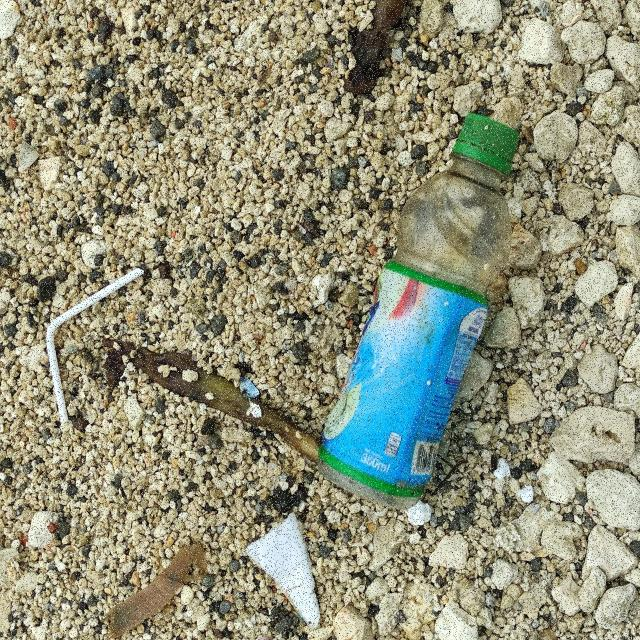plastic_waste: (318, 114, 523, 511), (47, 265, 146, 426)
